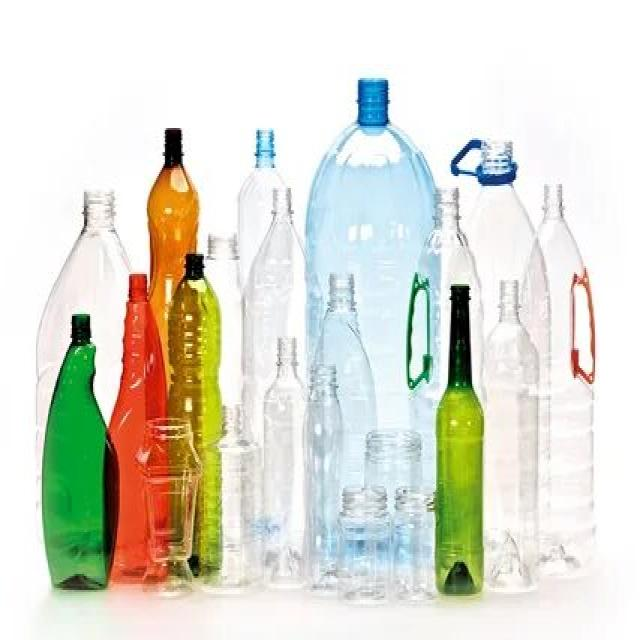blue: (306, 77, 435, 233)
brown: (145, 127, 198, 255)
green: (41, 315, 121, 592)
